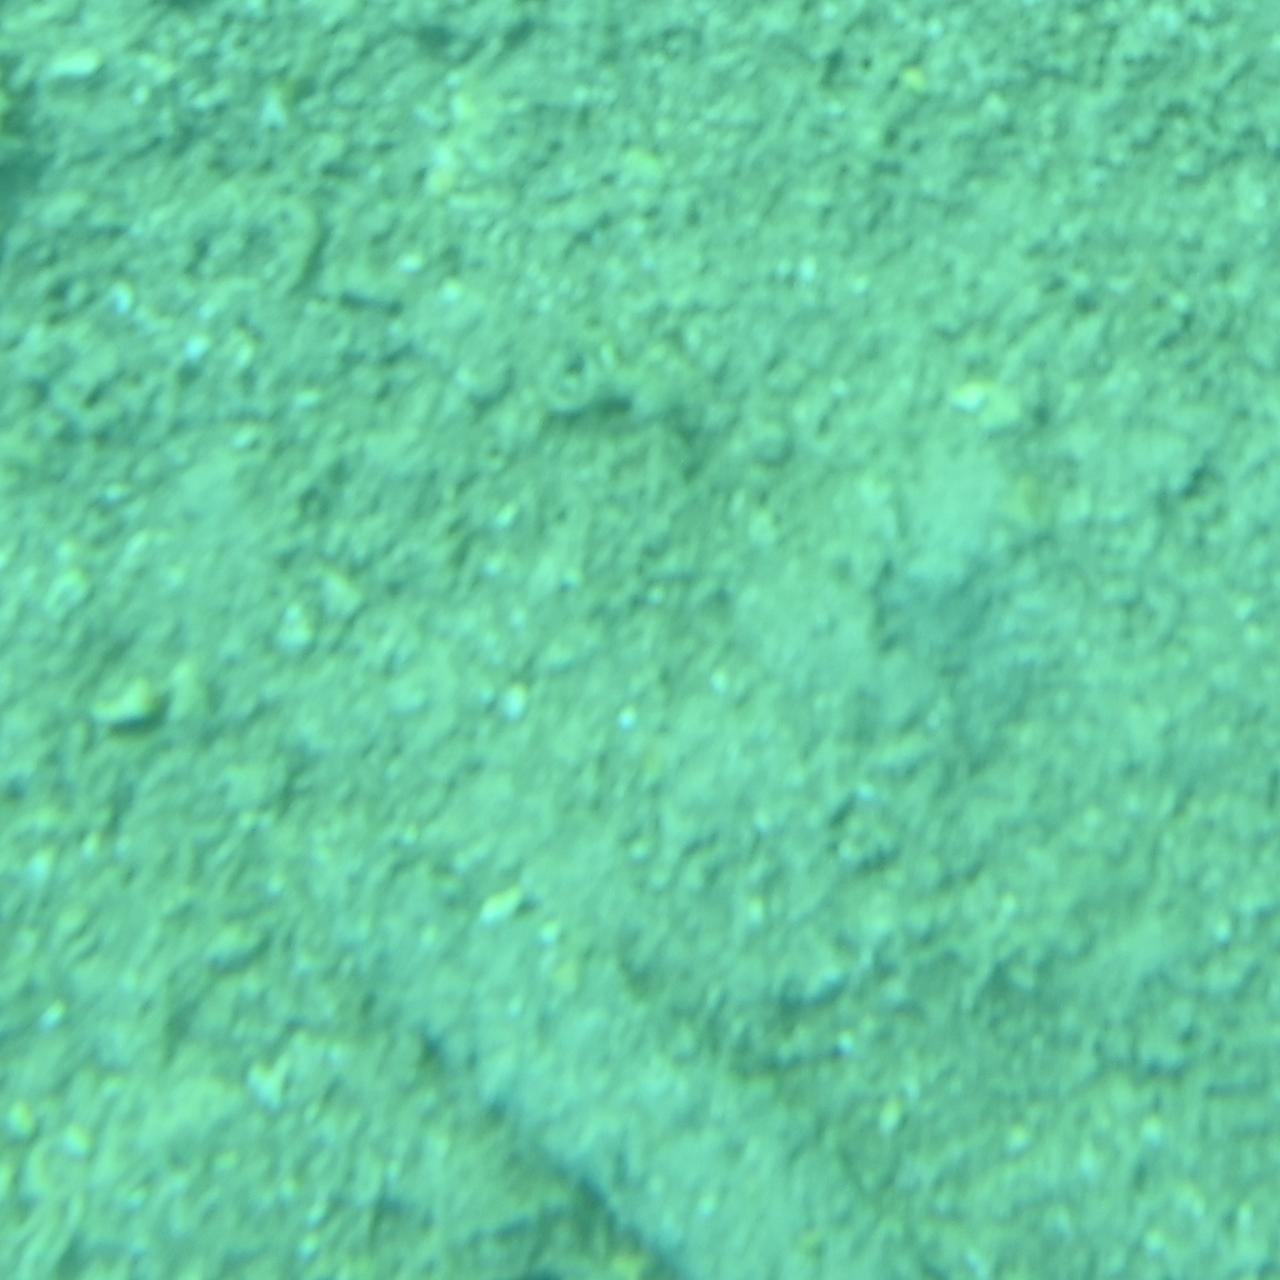Holothuria tubulosa: (302, 847, 978, 1280)
